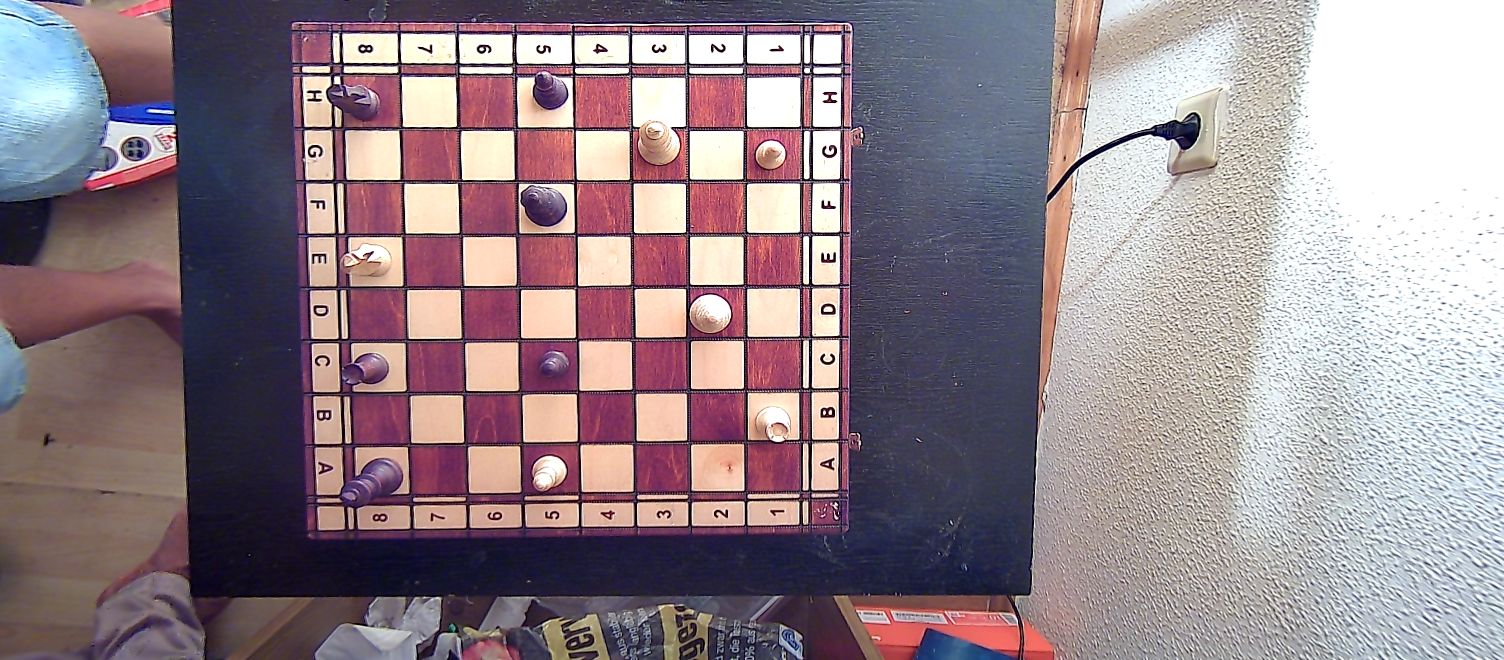black-bishop: (528, 68, 571, 114)
black-king: (339, 456, 403, 513)
black-knight: (324, 81, 383, 122)
black-pawn: (531, 345, 572, 384)
black-queen: (518, 183, 571, 228)
black-rook: (343, 350, 391, 388)
white-bishop: (527, 451, 570, 492)
white-king: (635, 118, 680, 168)
white-knight: (338, 239, 394, 280)
white-pawn: (753, 137, 792, 173)
white-queen: (685, 291, 734, 336)
white-rook: (754, 401, 793, 445)
